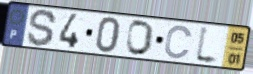0: (94, 16, 123, 54)
4: (57, 12, 81, 50)
C: (163, 24, 194, 61)
L: (193, 24, 221, 68)
O: (125, 19, 156, 57)
S: (25, 8, 58, 48)
